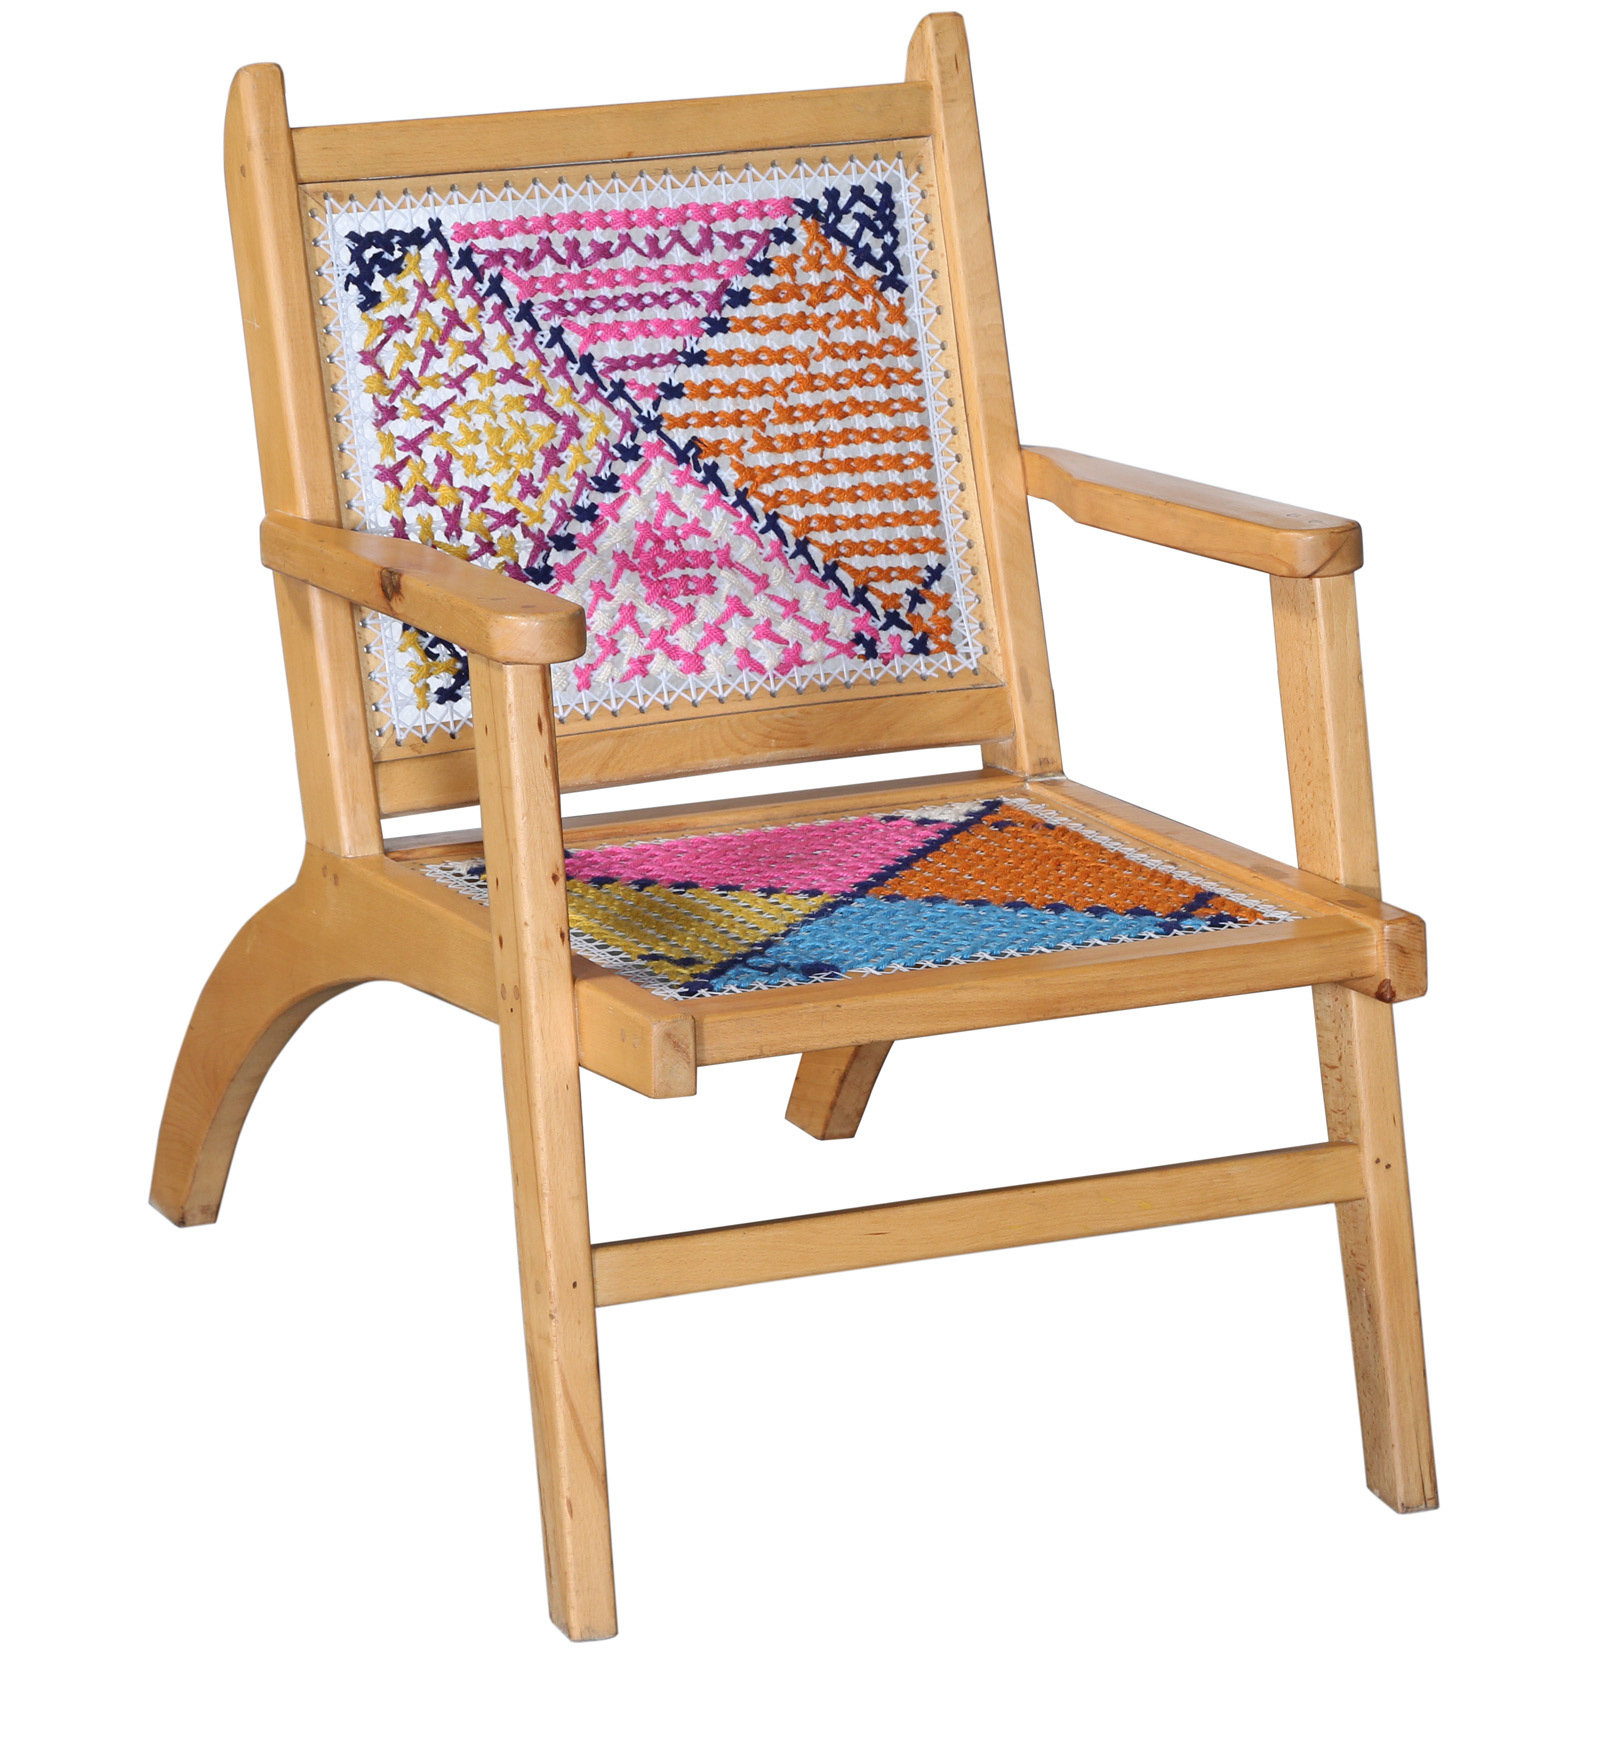Cara Arm Chair in in Multi- Color Finish by Bohemiana: (106, 12, 1497, 1657)
